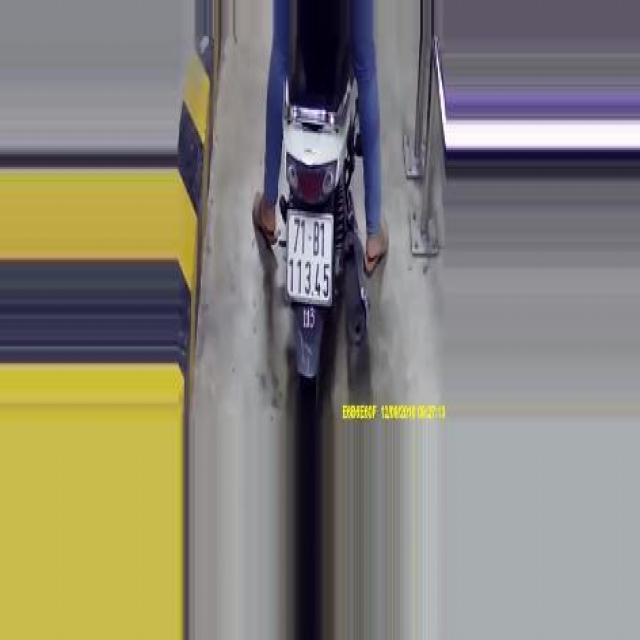License-Plates: (280, 199, 340, 314)
